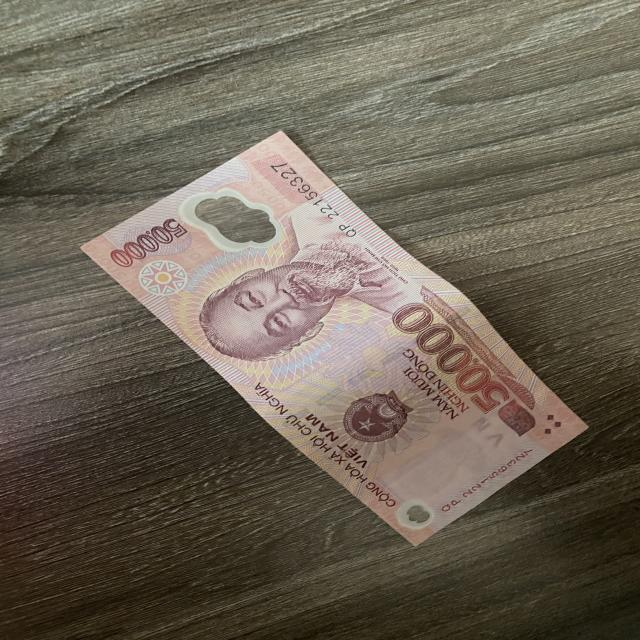50 000 VND: (79, 128, 589, 550)
